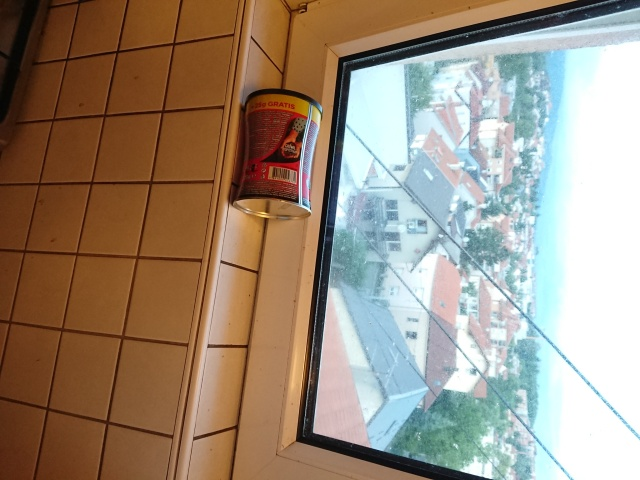Nescafe Classic 225g: (228, 86, 326, 222)
